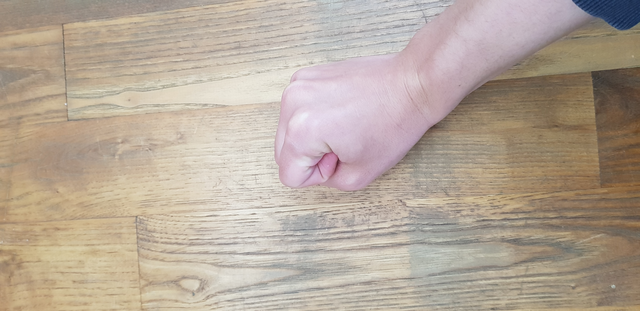Rock: (240, 34, 477, 223)
